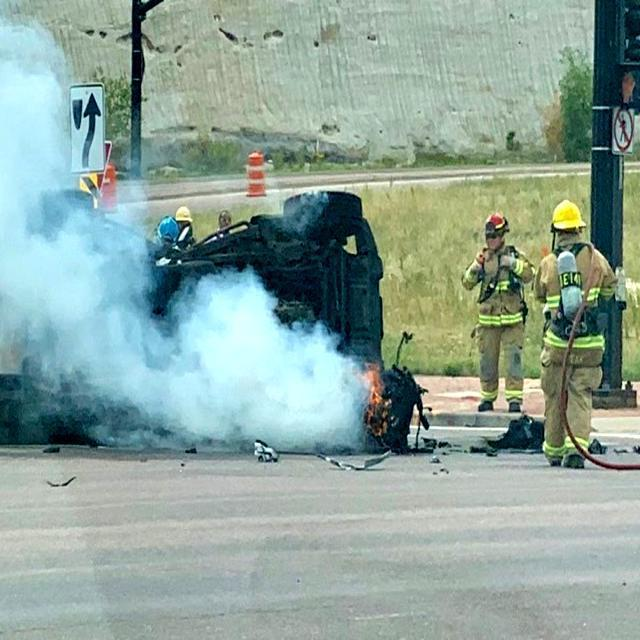Smoke: (0, 8, 377, 471)
